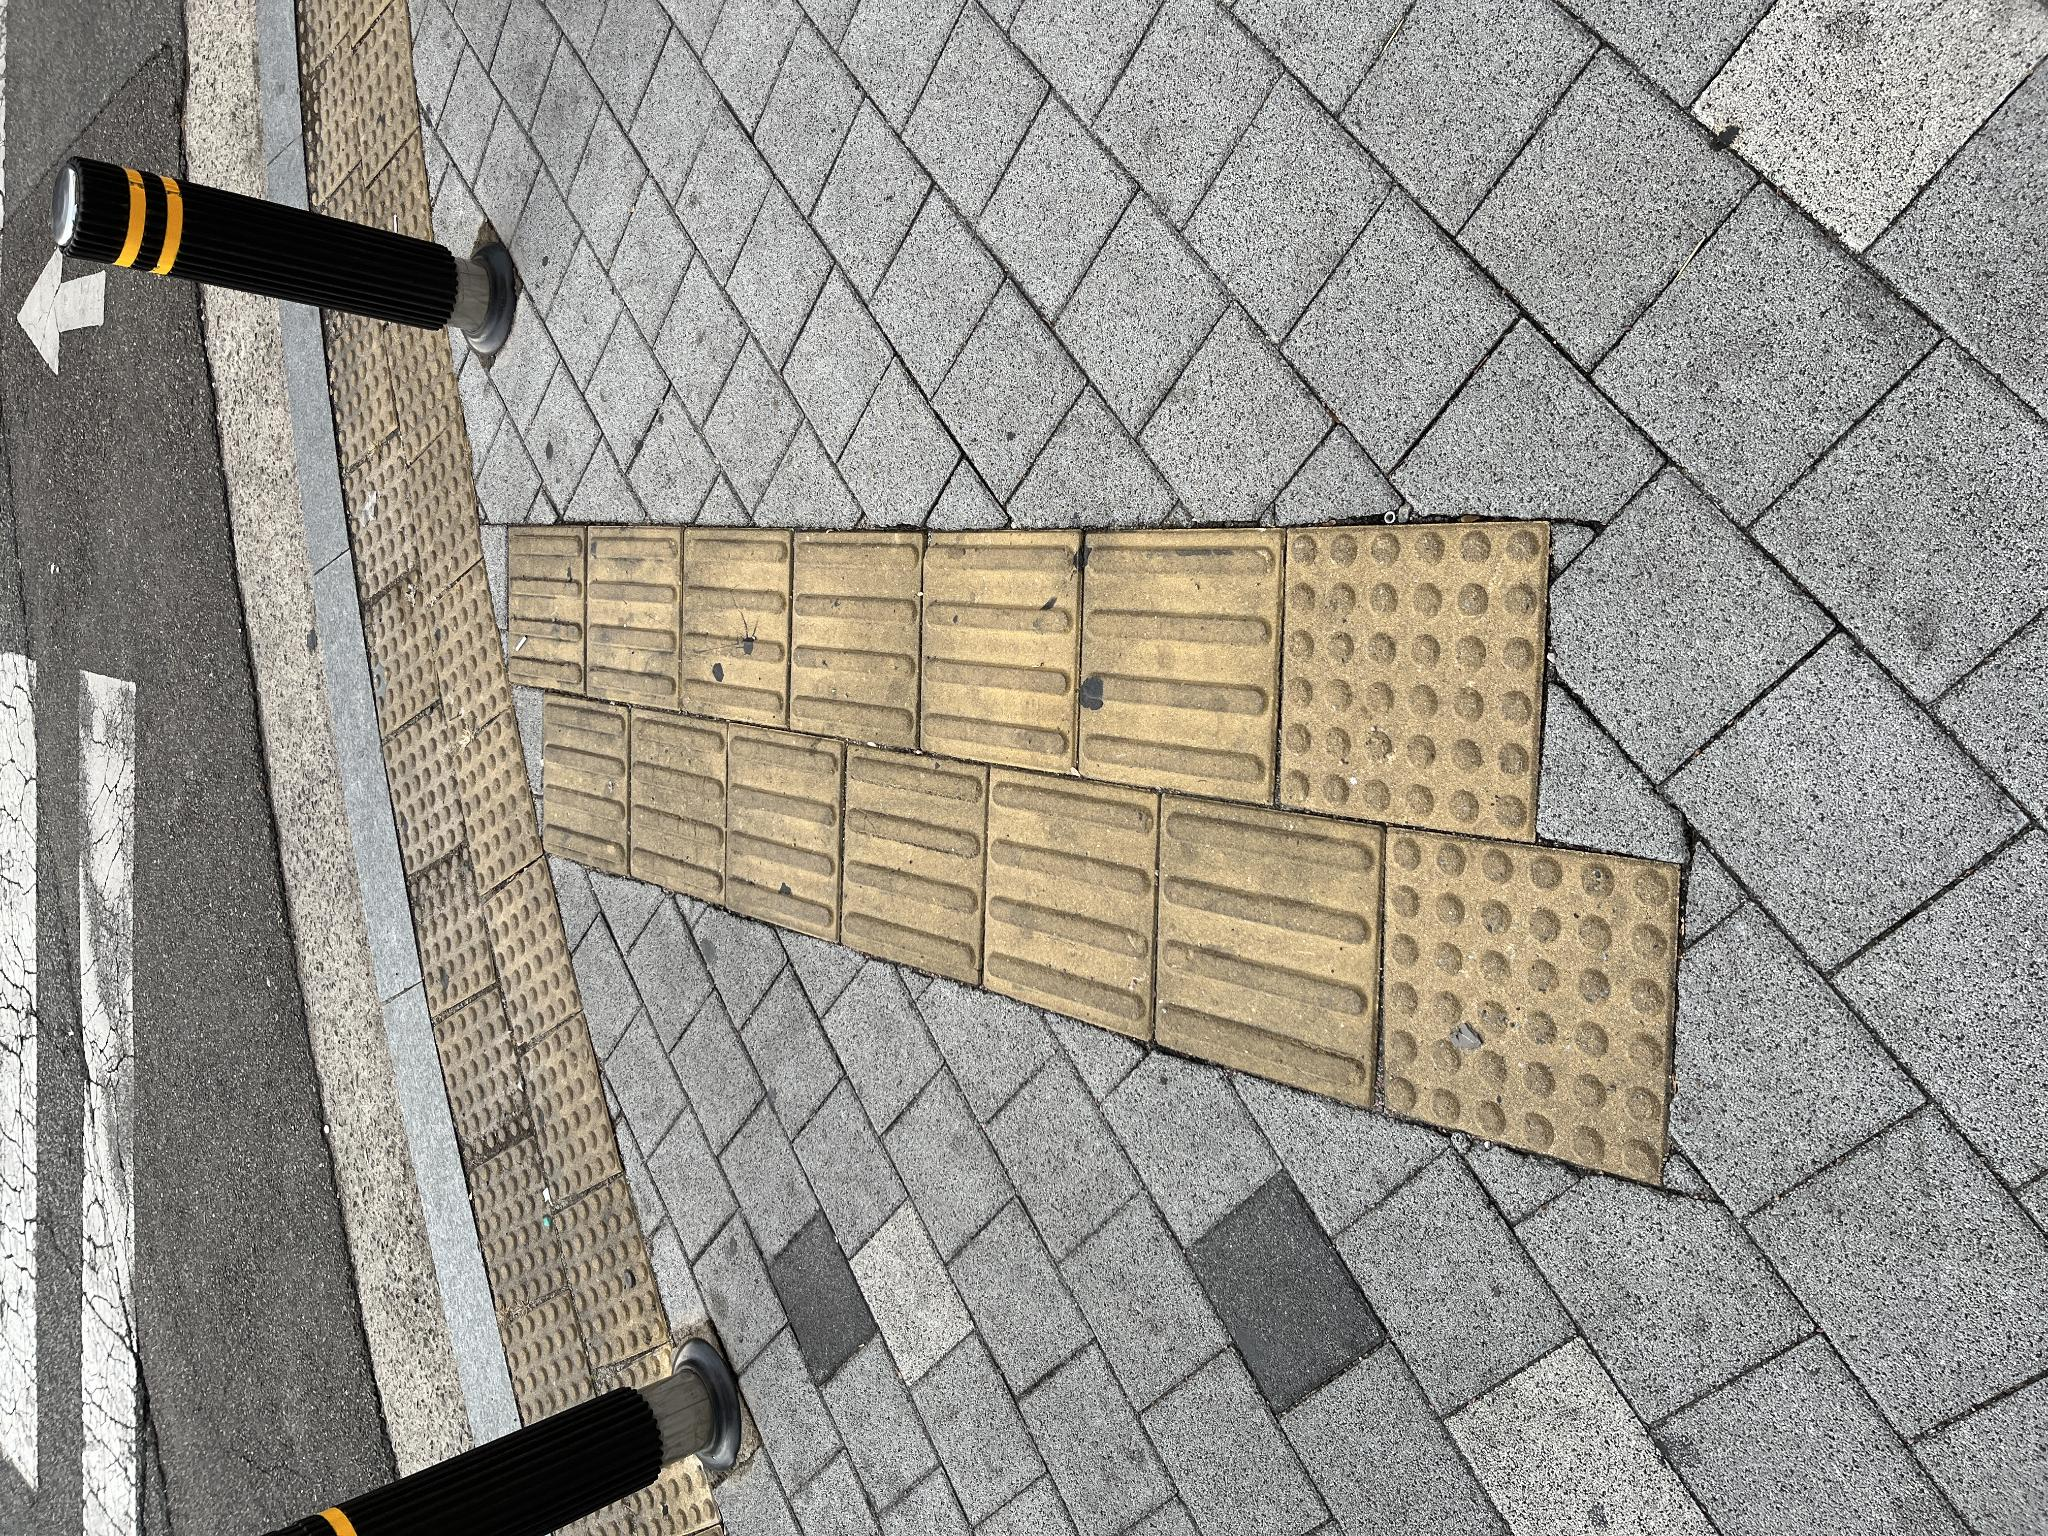Stop block normal: (697, 1281, 1011, 1536), (387, 1381, 703, 1536), (489, 482, 677, 581), (932, 407, 1121, 481)
Straight block normal: (434, 1155, 740, 1379), (734, 1081, 1001, 1276), (500, 983, 766, 1152), (766, 923, 1001, 1075), (552, 844, 790, 983), (787, 789, 1000, 918), (595, 726, 813, 839), (827, 587, 1009, 681)
